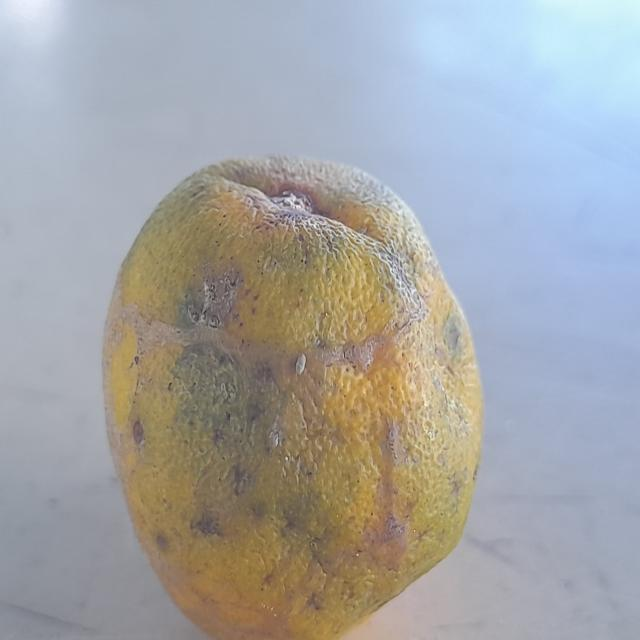black spot: (80, 119, 480, 640)
